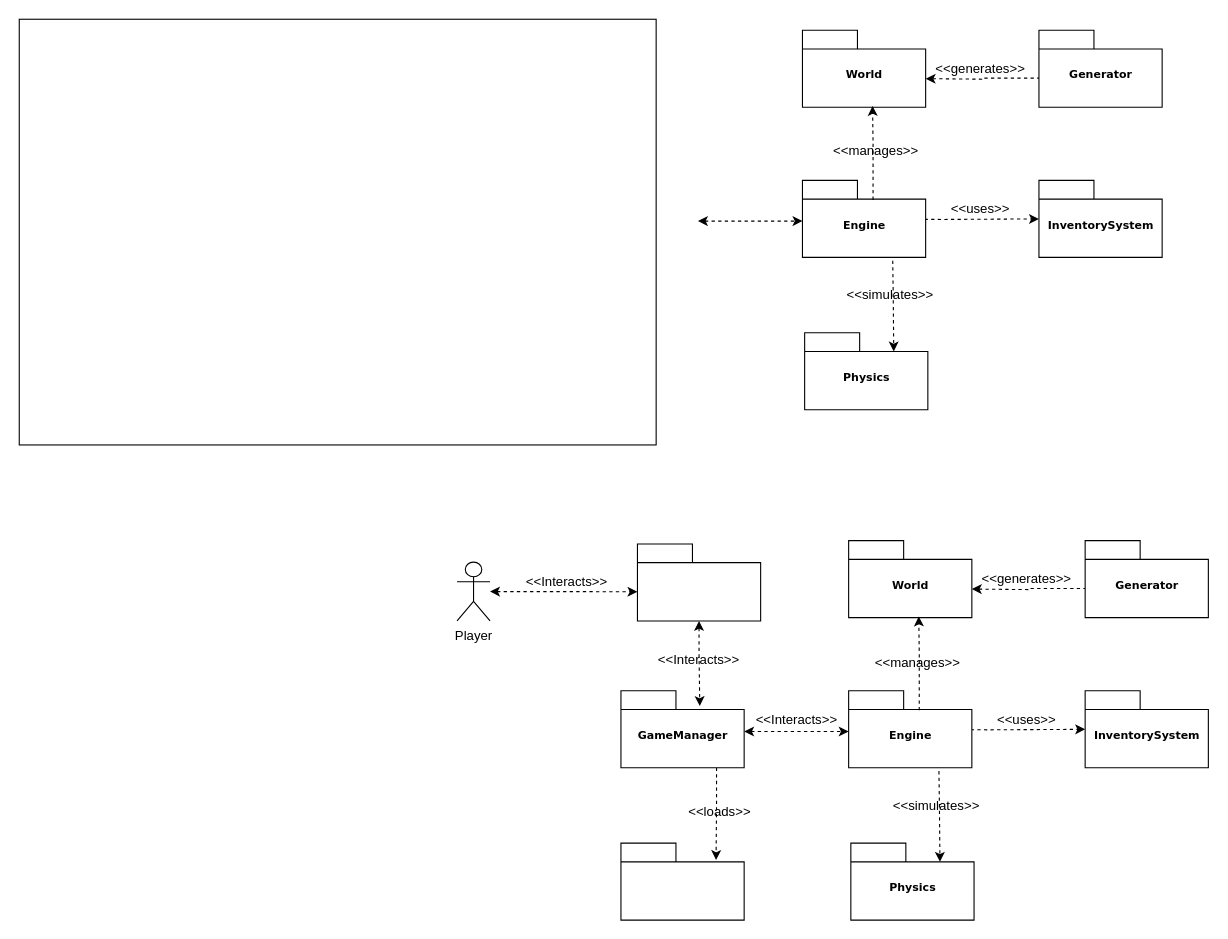
The diagram is 1228 pixels wide and 939 high, and some of its shapes have lost their labels. Here are the shapes that lost their labels. From the top down, the centre of each, then its label:
point (698, 582): GUI
point (682, 881): SaveManager
